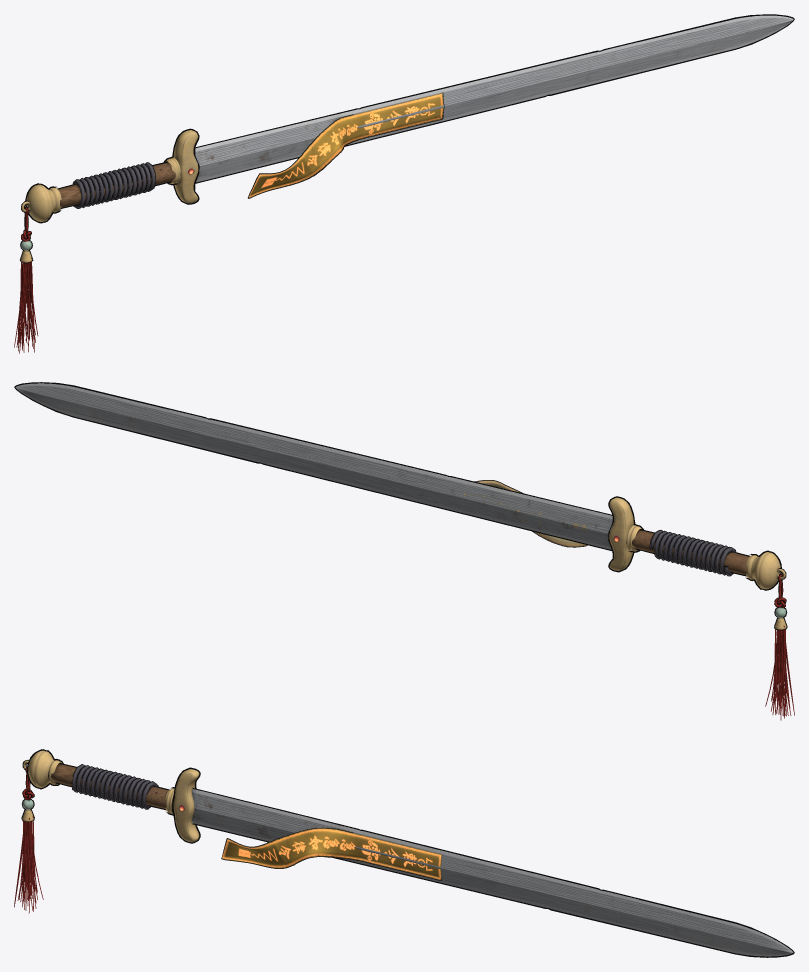
Rendered from sword.glb.
3 views of the same model, one above another, from view 1: azimuth 30°, elevation 25°; view 2: azimuth 150°, elevation 25°; view 3: azimuth 330°, elevation 25° (orthographic).
Visible parts, largest first — view 1: sword_body, sword_talisman, sword_body_outline, sword_tassel; view 2: sword_body, sword_body_outline, sword_tassel; view 3: sword_body, sword_talisman, sword_body_outline, sword_tassel, sword_talisman_outline.
Boxes of the visible parts, x1,y1,x2,y2 form: sword_body: (21, 15, 793, 221); sword_talisman: (248, 93, 443, 197); sword_body_outline: (21, 14, 794, 223); sword_tassel: (14, 207, 38, 353); sword_body: (15, 383, 785, 589); sword_body_outline: (14, 382, 786, 590); sword_tassel: (765, 574, 794, 720); sword_body: (23, 750, 793, 956); sword_talisman: (222, 828, 441, 880); sword_body_outline: (22, 749, 794, 957); sword_tassel: (14, 767, 43, 913); sword_talisman_outline: (221, 827, 441, 880).
Size of the model in its own units: 1.96 by 0.4353 by 0.1137.
2 materials, 1 textured.
